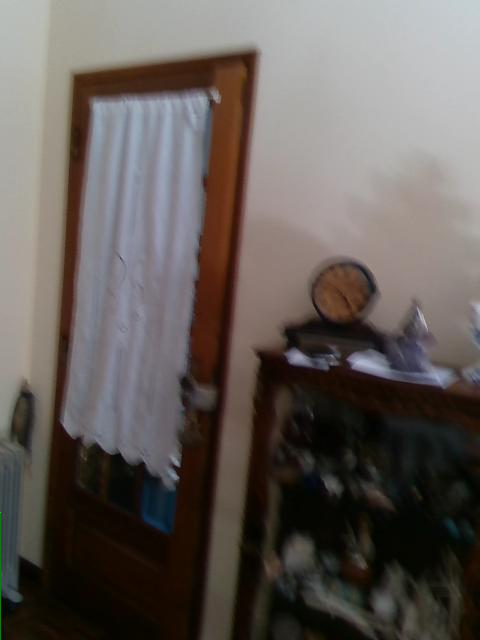closed_door: (42, 48, 261, 639)
